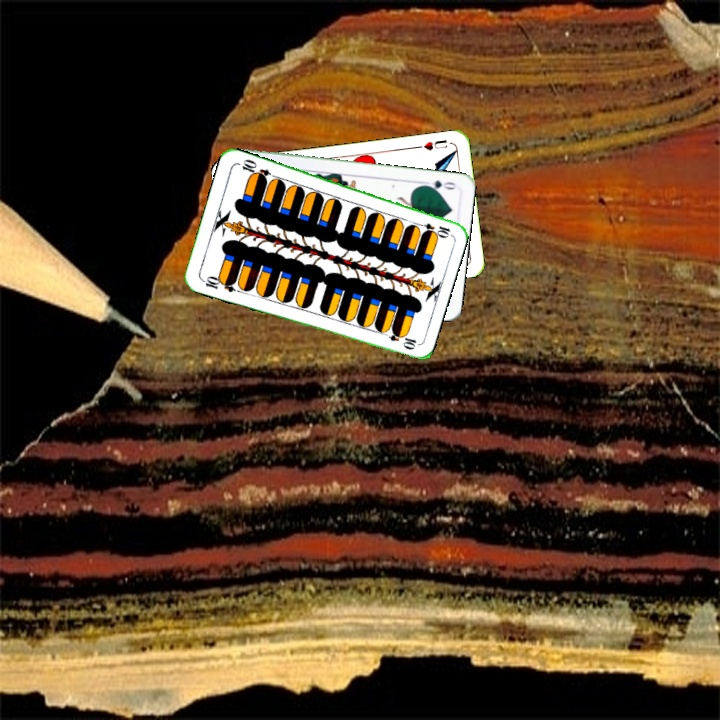E10: (198, 272, 238, 295), (412, 219, 453, 239)
GO: (418, 176, 459, 193)
HU: (413, 135, 450, 153)
